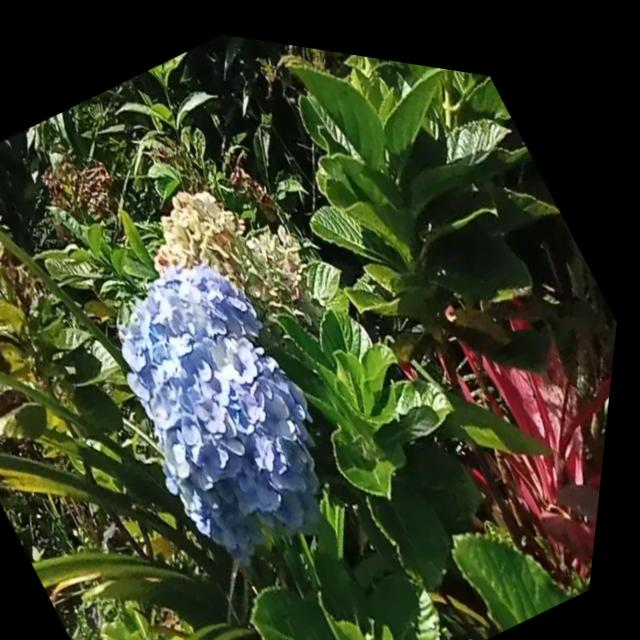Flower: (74, 229, 386, 586)
